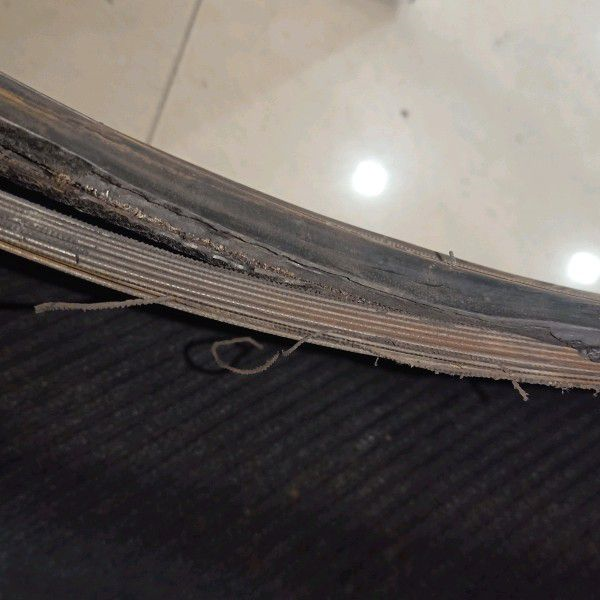bead_damage: (2, 106, 599, 464)
